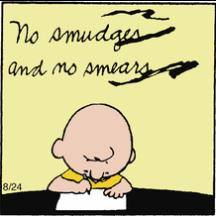charlie: (46, 102, 136, 198)
